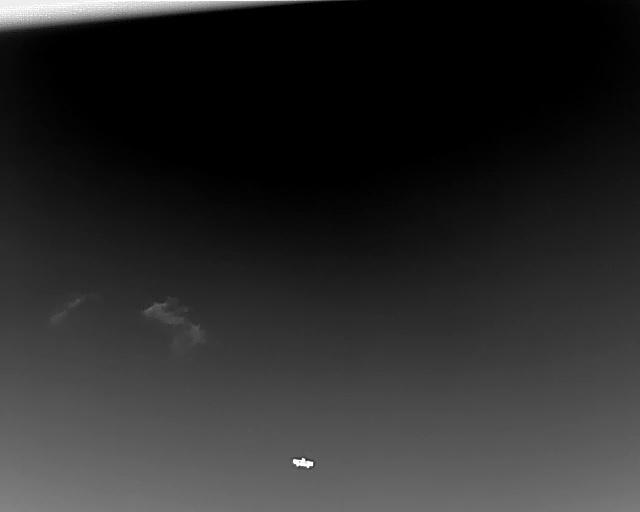fpv-drone: (292, 458, 314, 468)
